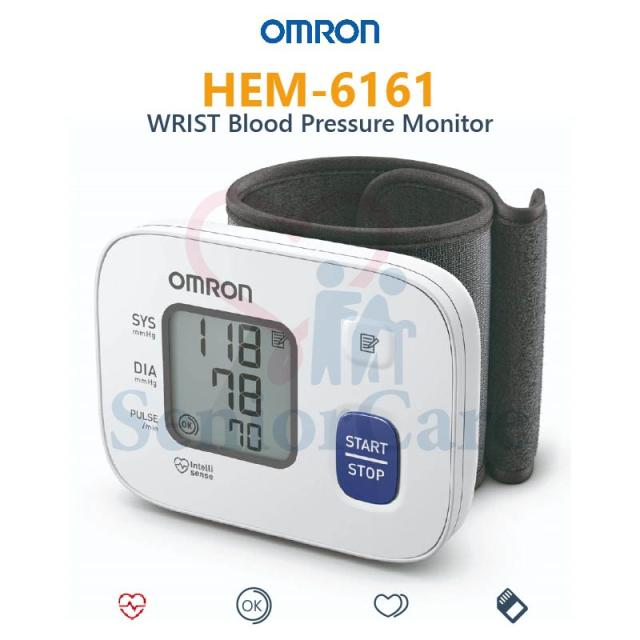dia: (200, 365, 275, 422)
pul: (214, 414, 272, 459)
ssd: (163, 305, 296, 469)
sys: (182, 311, 274, 375)
